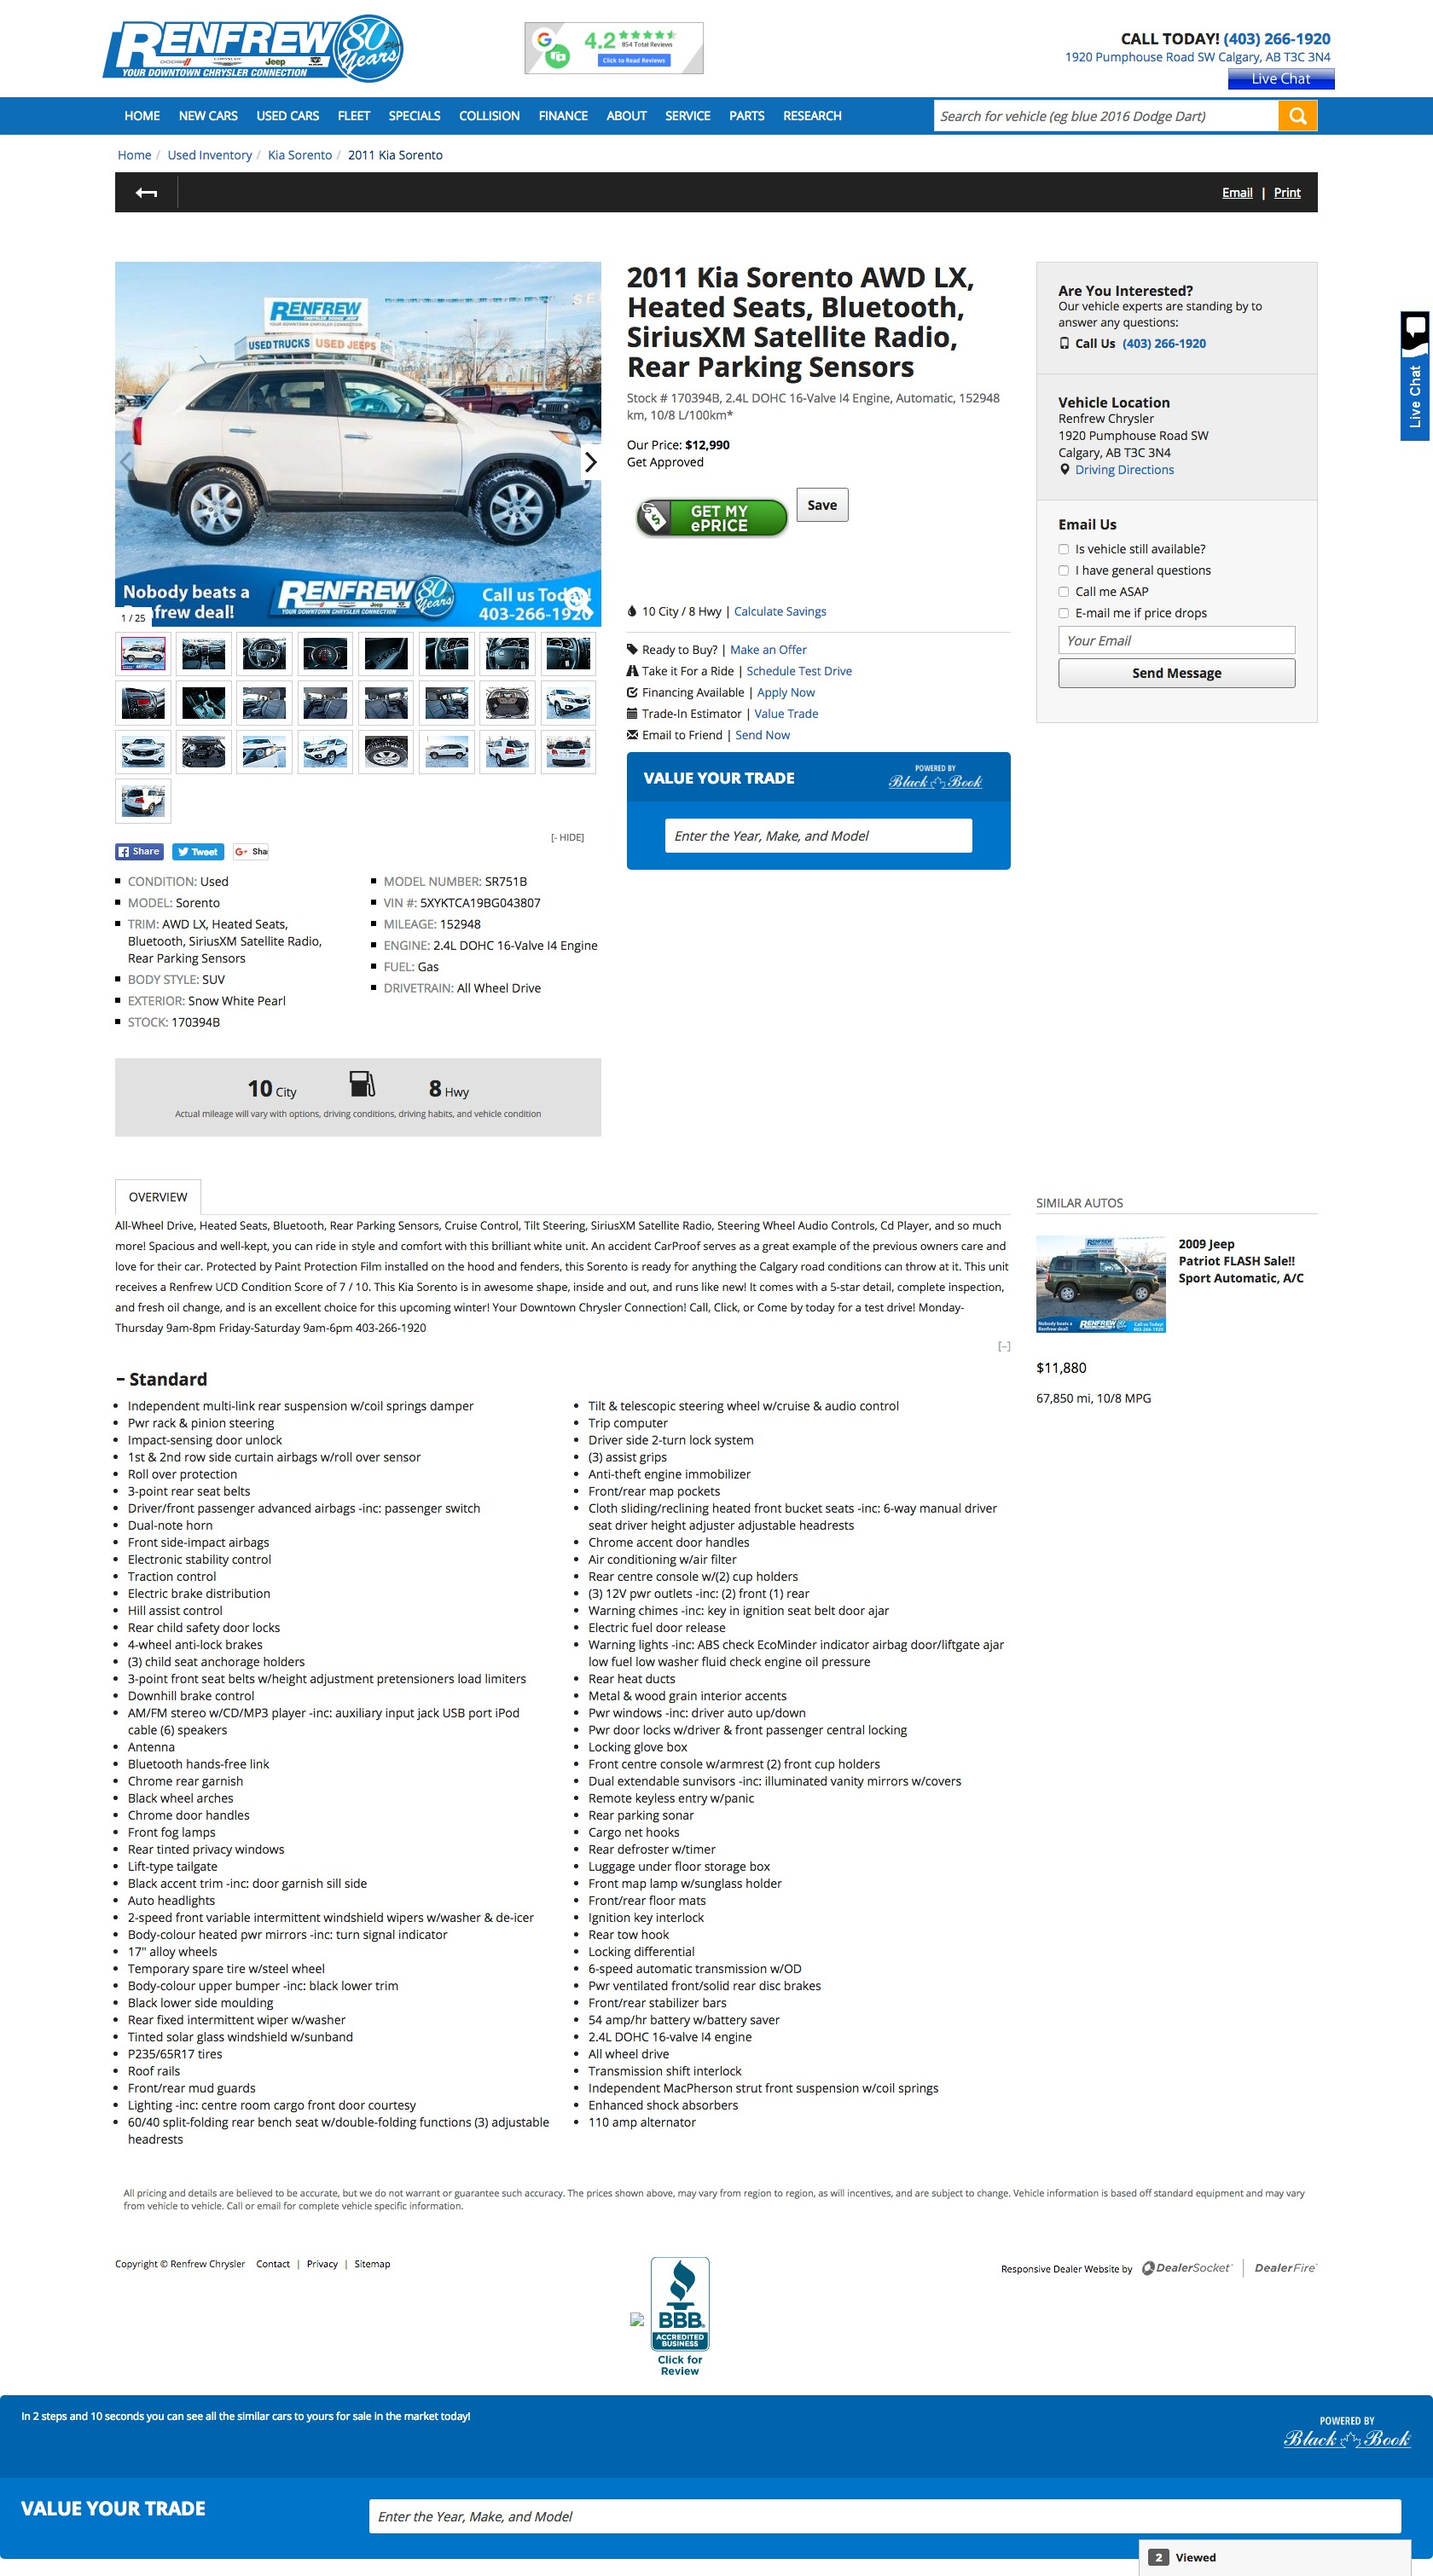car: (581, 444, 604, 481)
